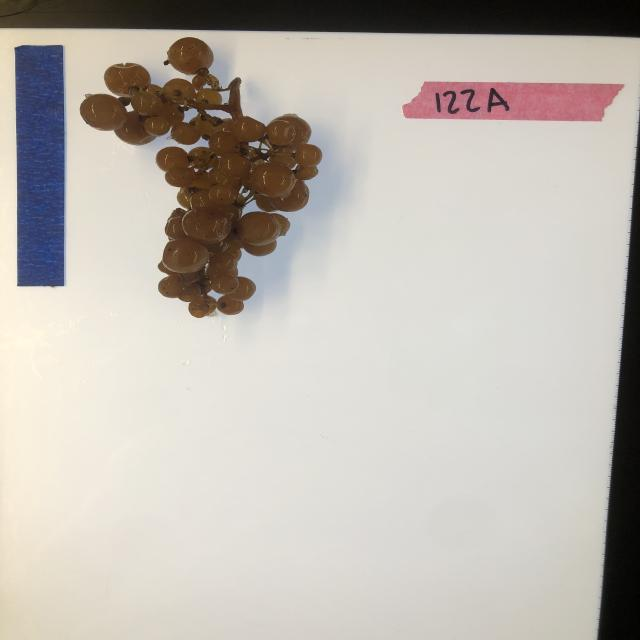grape_cluster: (80, 36, 324, 323)
index: (403, 78, 627, 126)
measure_label: (12, 43, 67, 287)
